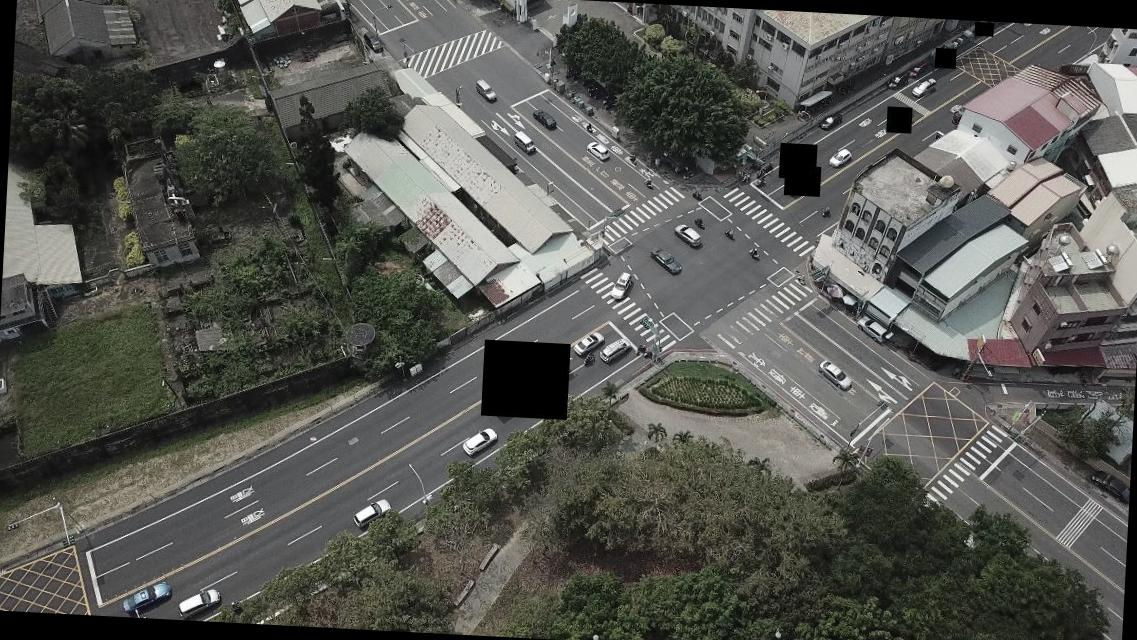vehicle: (119, 578, 172, 614), (174, 584, 222, 622), (1091, 468, 1130, 506), (352, 495, 392, 528), (817, 360, 856, 392), (462, 424, 496, 458), (856, 317, 894, 345), (649, 245, 681, 274), (572, 330, 604, 358), (600, 336, 629, 362), (674, 224, 703, 250), (609, 270, 630, 300), (511, 130, 535, 152), (475, 79, 498, 101), (531, 108, 555, 129), (828, 148, 852, 168), (911, 78, 935, 98), (886, 72, 908, 92), (586, 141, 608, 160), (909, 59, 929, 78), (820, 111, 842, 128)
